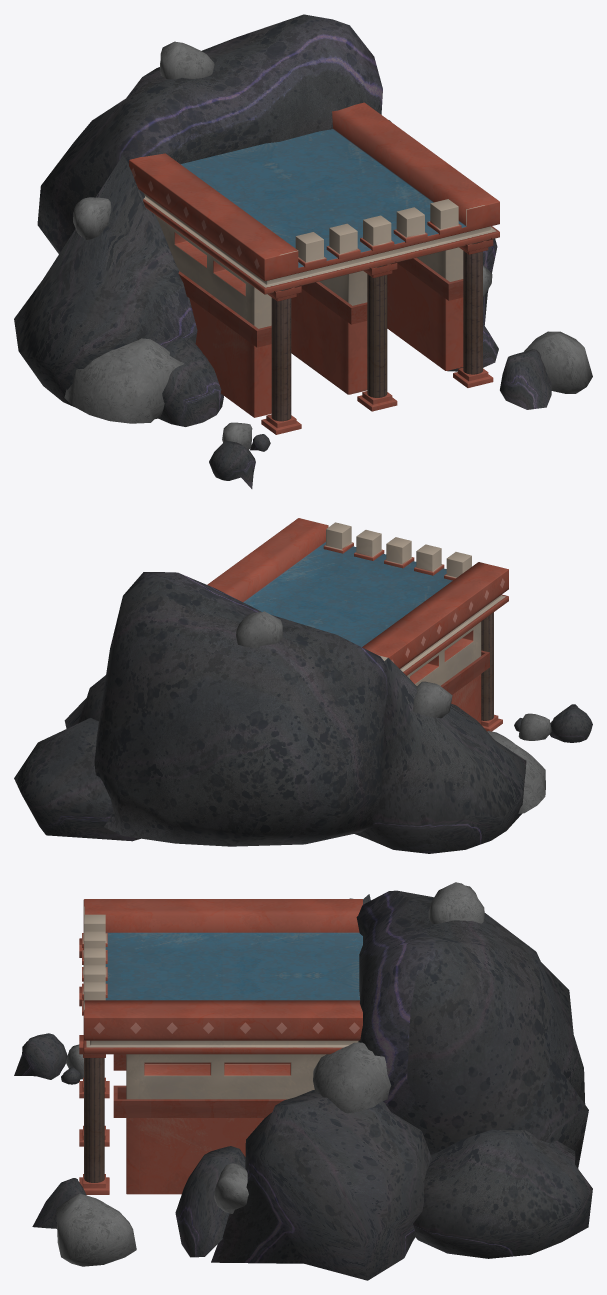
Rendered from Mina.fbx.
3 views of the same model, one above another, from view 1: azimuth 30°, elevation 25°; view 2: azimuth 150°, elevation 25°; view 3: azimuth 270°, elevation 25° (orthographic). The views are drawn at different scales.
Visible parts, largest first — view 1: Plane.014; view 2: Plane.014; view 3: Plane.014.
Boxes of the visible parts, x1=… form: Plane.014: x1=14, y1=14, x2=592, y2=488; Plane.014: x1=14, y1=518, x2=592, y2=853; Plane.014: x1=14, y1=882, x2=592, y2=1280.
Bounding box in the file's own units: 800 × 443 × 806.
Materials: 3 (3 with a texture image).
